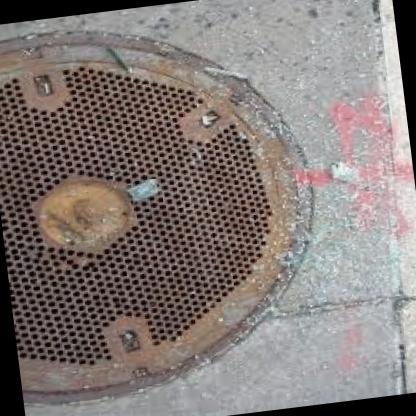manholes: (0, 0, 357, 416)
